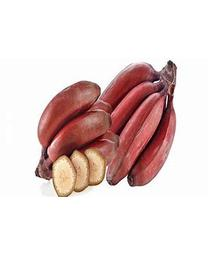banana: (35, 60, 176, 191)
